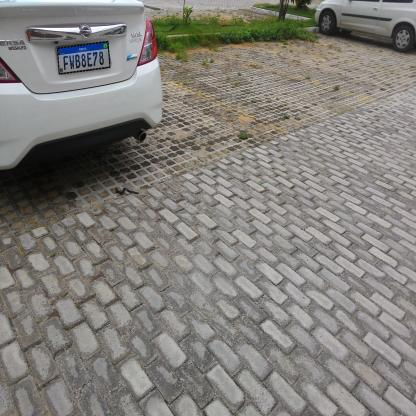PlacaM: (57, 41, 110, 74)
